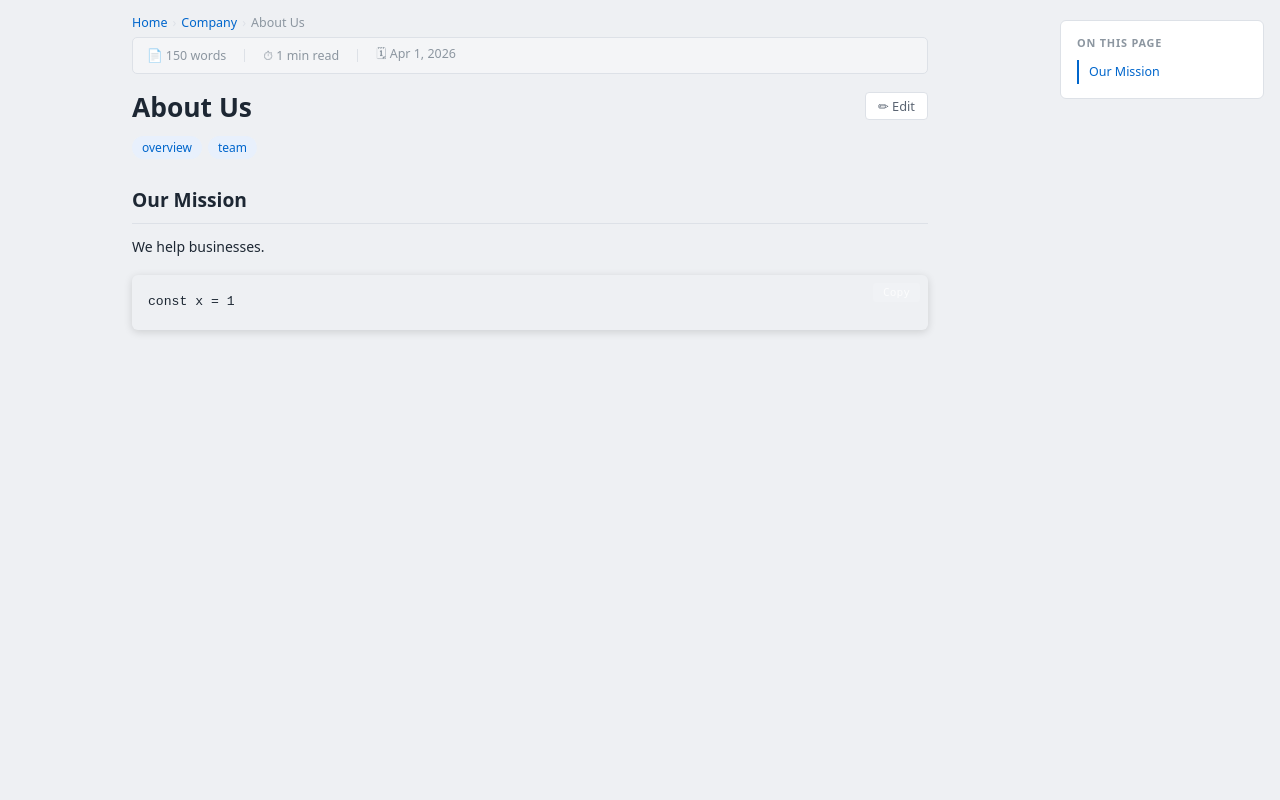
Test: PageViewer › enters edit mode on Edit click
This screenshot has width=1280, height=800.
What coordinates should you click on to do the following:
click the button "✏ Edit"
I would click on:
 (896, 106)
Its box is [865,92,928,120].
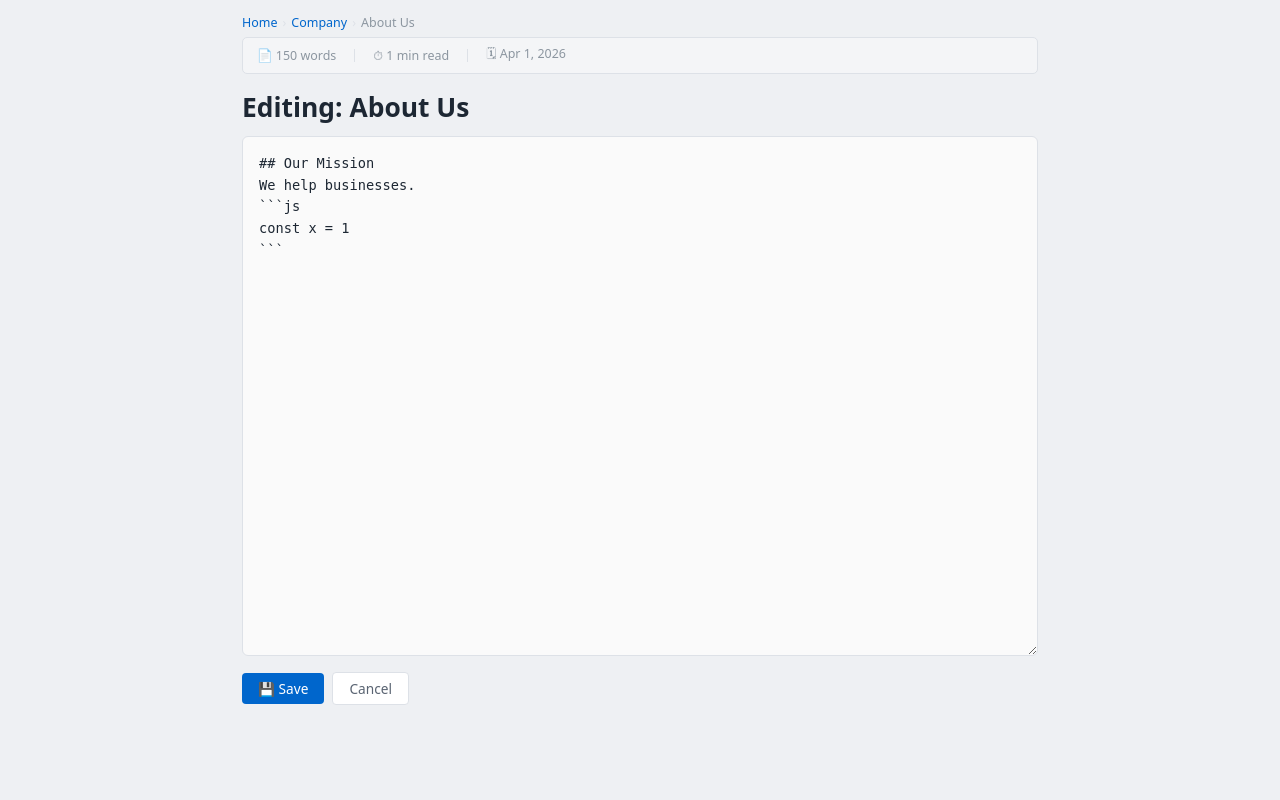
Now the heading "Editing: About Us" is shown, box [242,92,470,124]
Now the text box is shown, box [242,136,1038,656]
